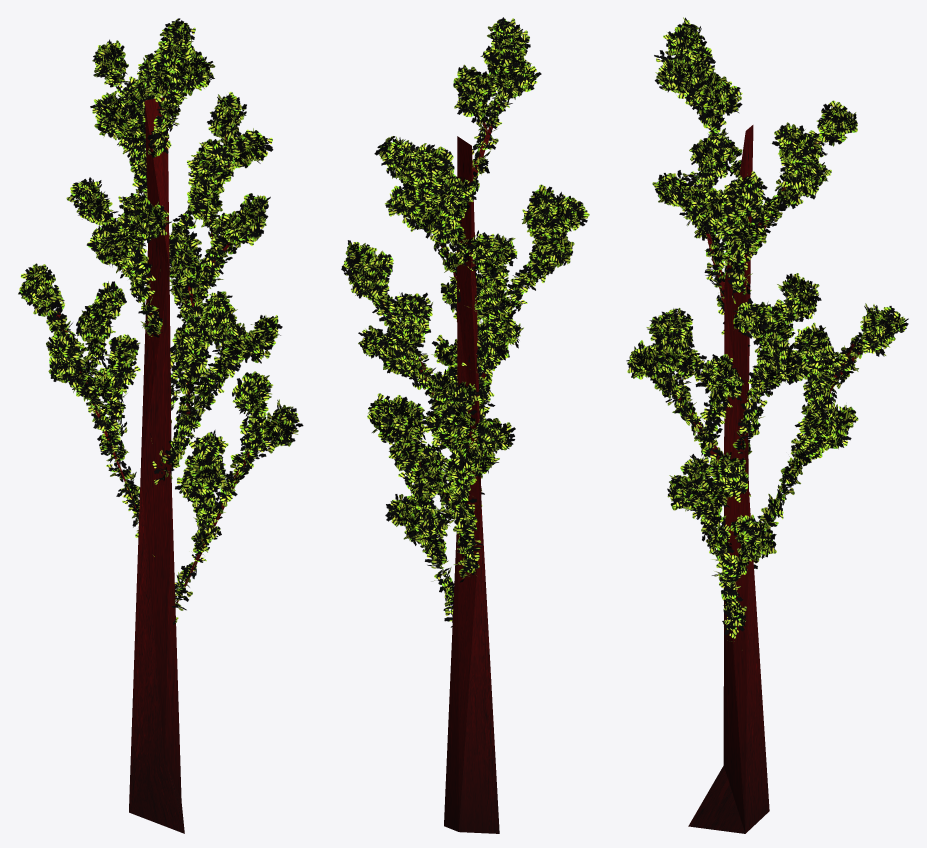
The model's file is baldcypress_v01_LOD1.glb.
3 views of the same model, side by side, from view 1: azimuth 30°, elevation 25°; view 2: azimuth 150°, elevation 25°; view 3: azimuth 270°, elevation 25° (orthographic). The views are drawn at different scales.
Visible parts, largest first — view 1: baldcypress_v01_LOD1; view 2: baldcypress_v01_LOD1; view 3: baldcypress_v01_LOD1.
Part boxes in pixels (left/top/right/bottom): baldcypress_v01_LOD1: left=18, top=18, right=303, bottom=833; baldcypress_v01_LOD1: left=341, top=17, right=589, bottom=833; baldcypress_v01_LOD1: left=626, top=17, right=908, bottom=833.
Size of the model in its own units: 8.04 by 27.57 by 9.03.
Materials: 2 (2 with a texture image).
